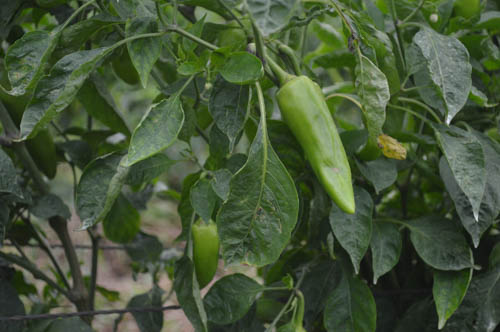ChiliPepper: (276, 77, 358, 210), (186, 222, 220, 287)
